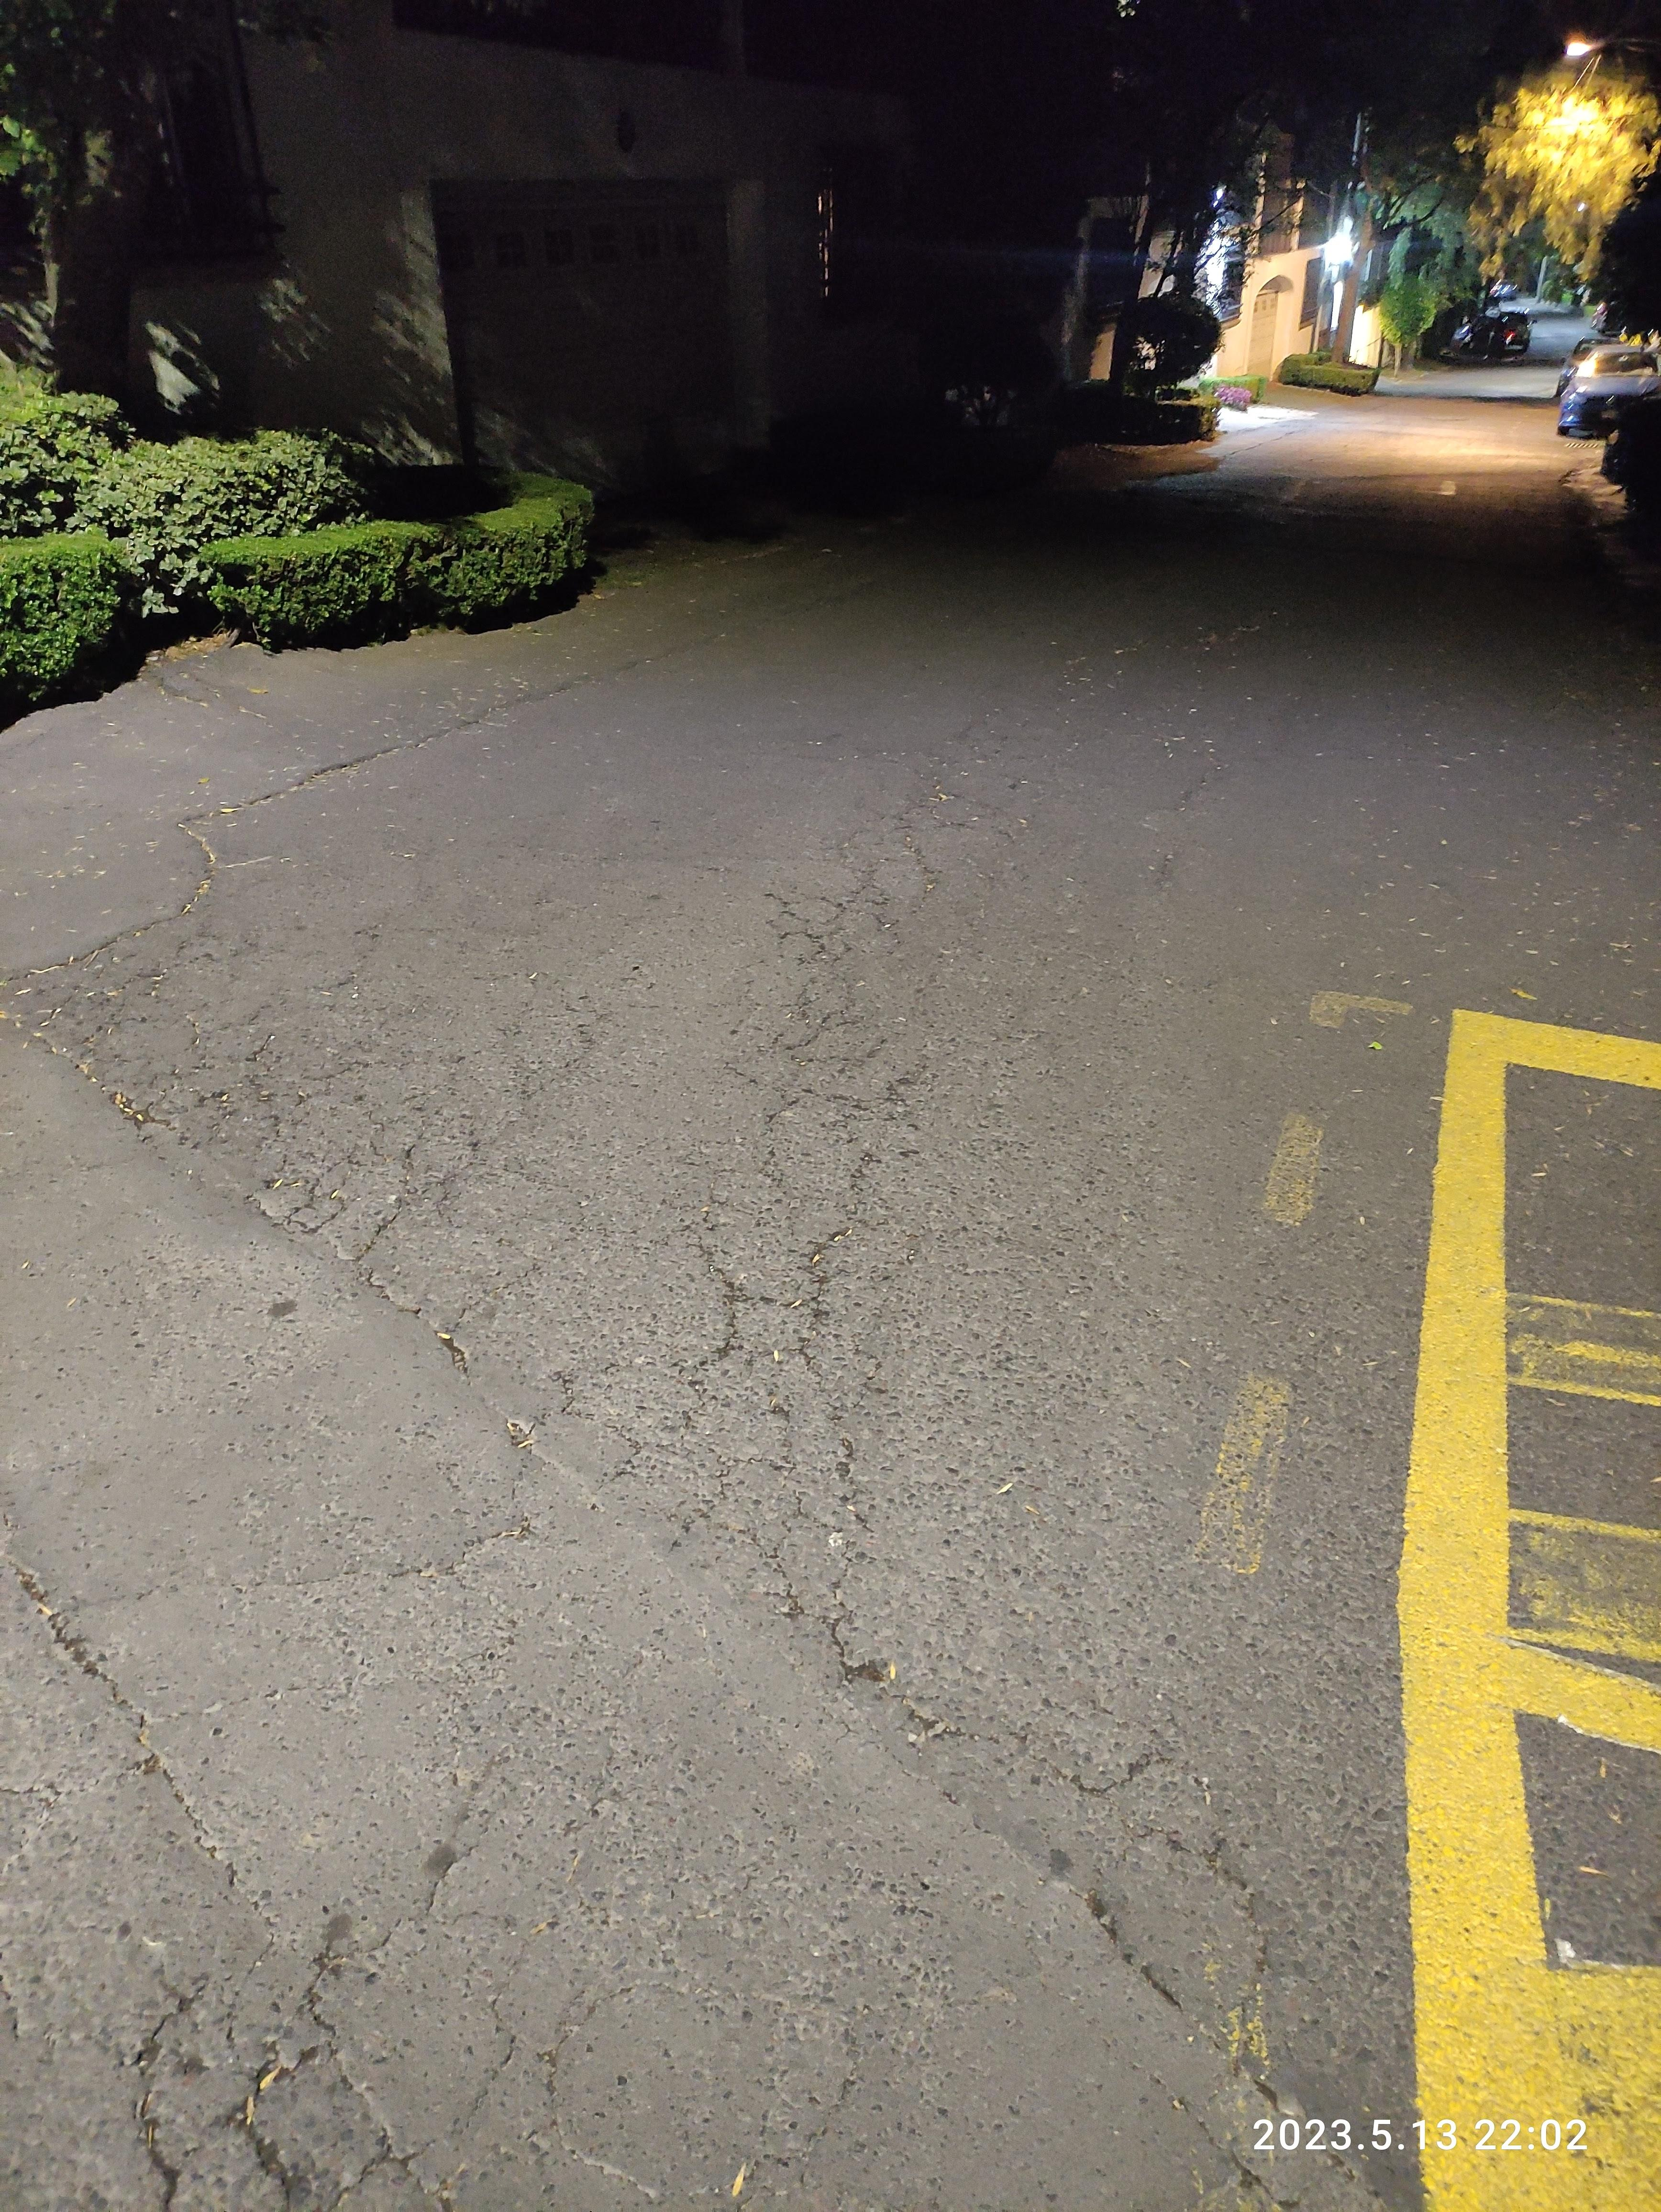alligator-crack: (67, 722, 1296, 1631), (837, 1655, 1363, 2210), (29, 1598, 431, 2201)
